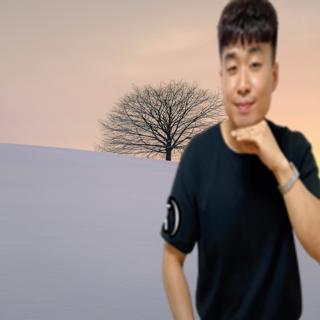Wait: (227, 117, 284, 170)
